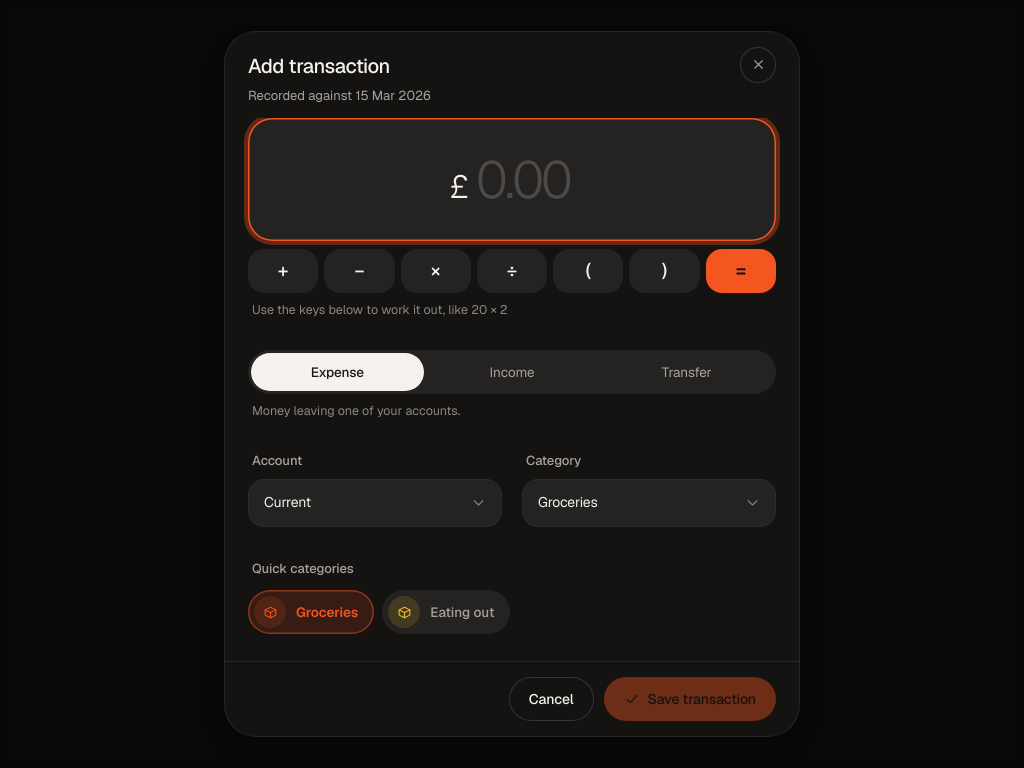
Test: what the form knows before you leave it › offers a new account from inside the account dropdown
What coordinates should you click on to do the following:
click the dropdown named "Account"
I would click on:
 (375, 503)
Its box is [248, 479, 502, 527].
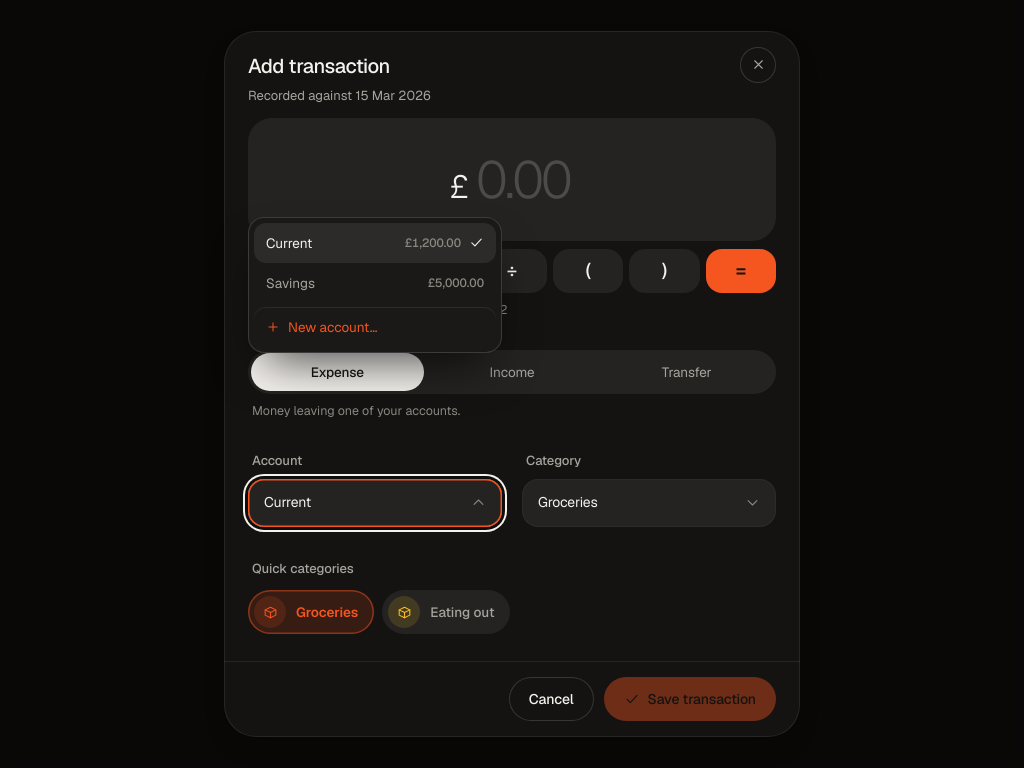
What coordinates should you click on to do the following:
click the option "New account…"
I would click on:
 (375, 327)
Its box is [254, 307, 496, 348].
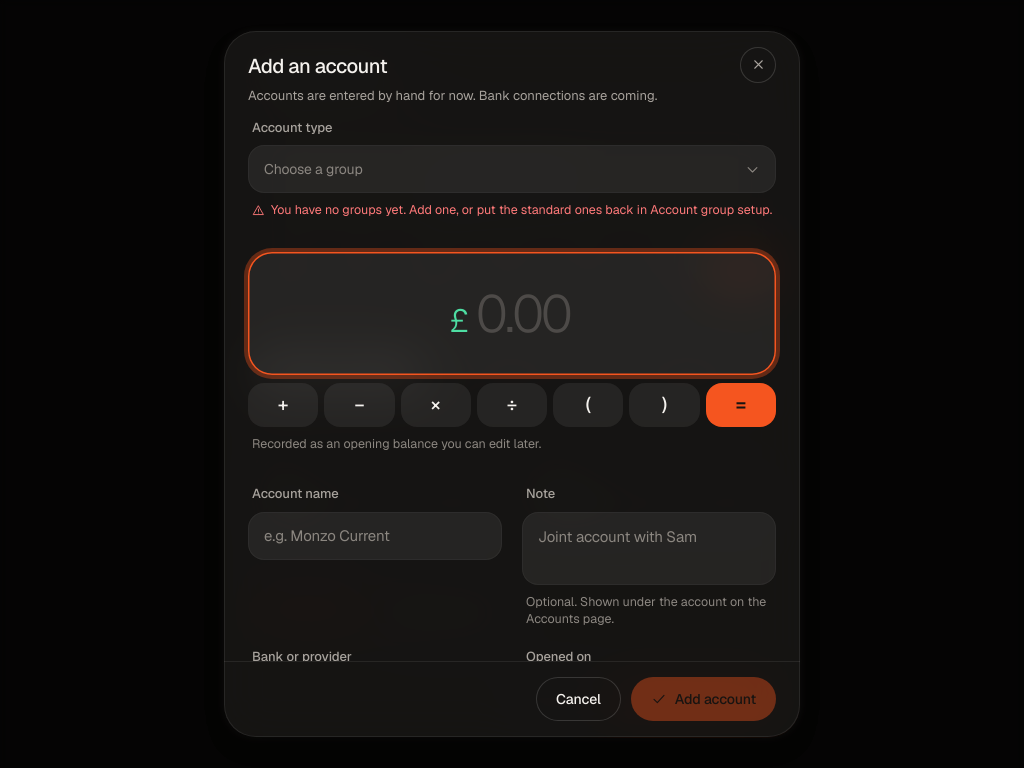
Expected: the dialog "Add an account" is shown, [224, 31, 800, 737]
